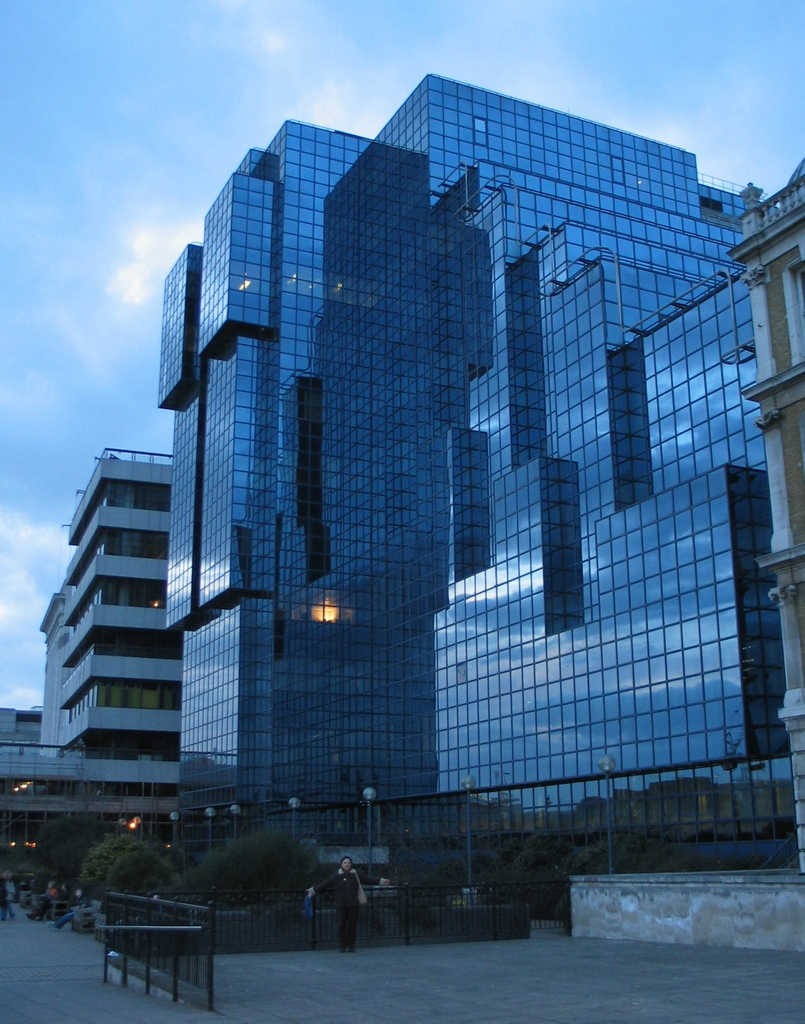Tree: (75, 828, 179, 891)
